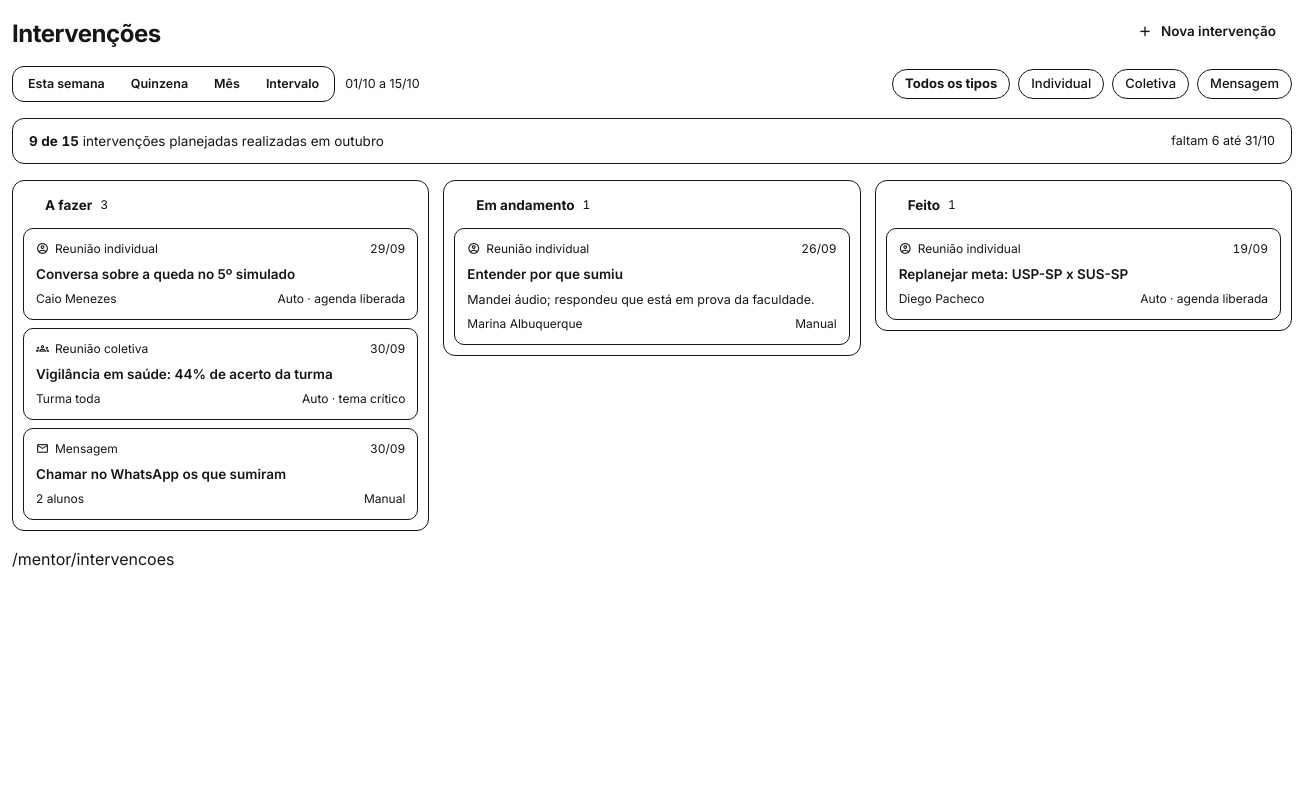
Test: Intervenções · kanban B2C › intervalo de datas valida a ordem e só consulta quando válido
The image size is (1304, 812).
Step 1. Click the tab "Intervalo" → click(293, 84), box [254,70,331,98]
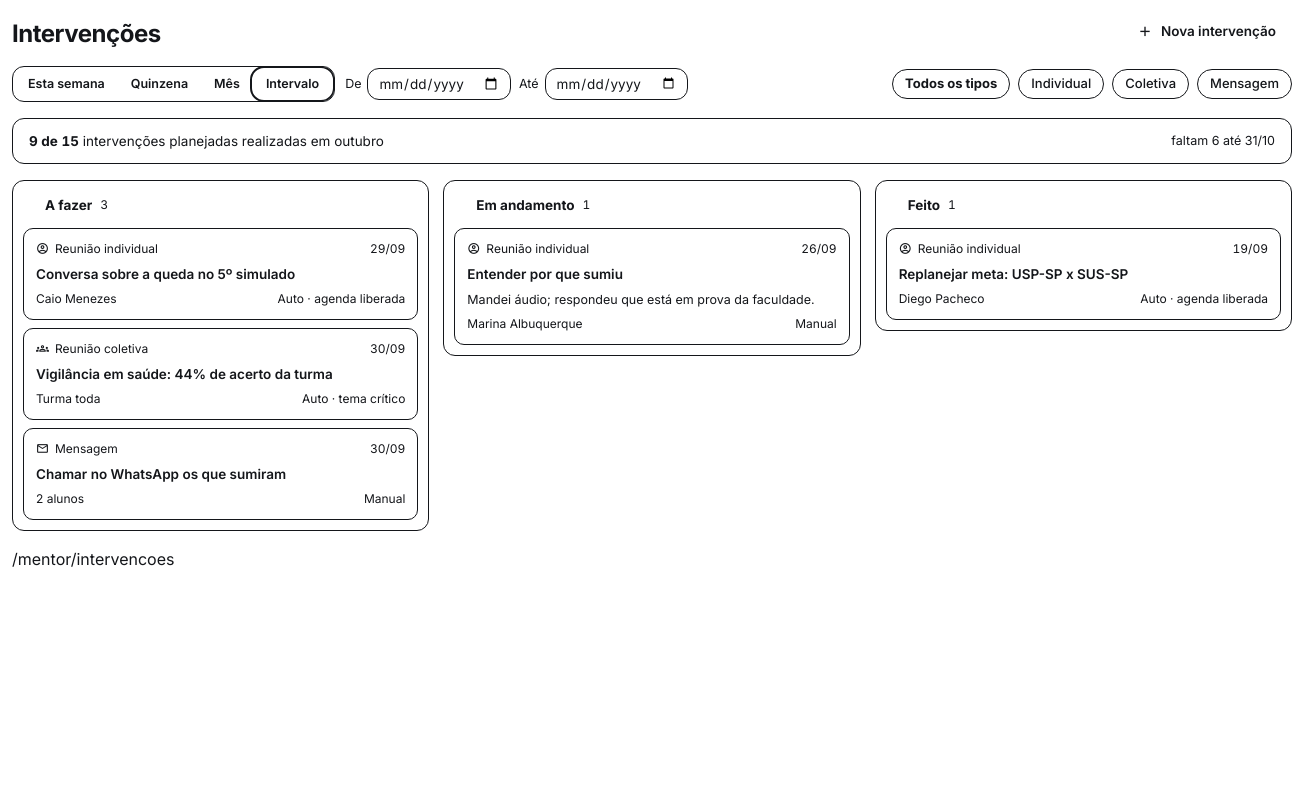
Step 2. Type "2026-10-09" into the date field labelled "De" → (439, 84), box [367,68,511,100]
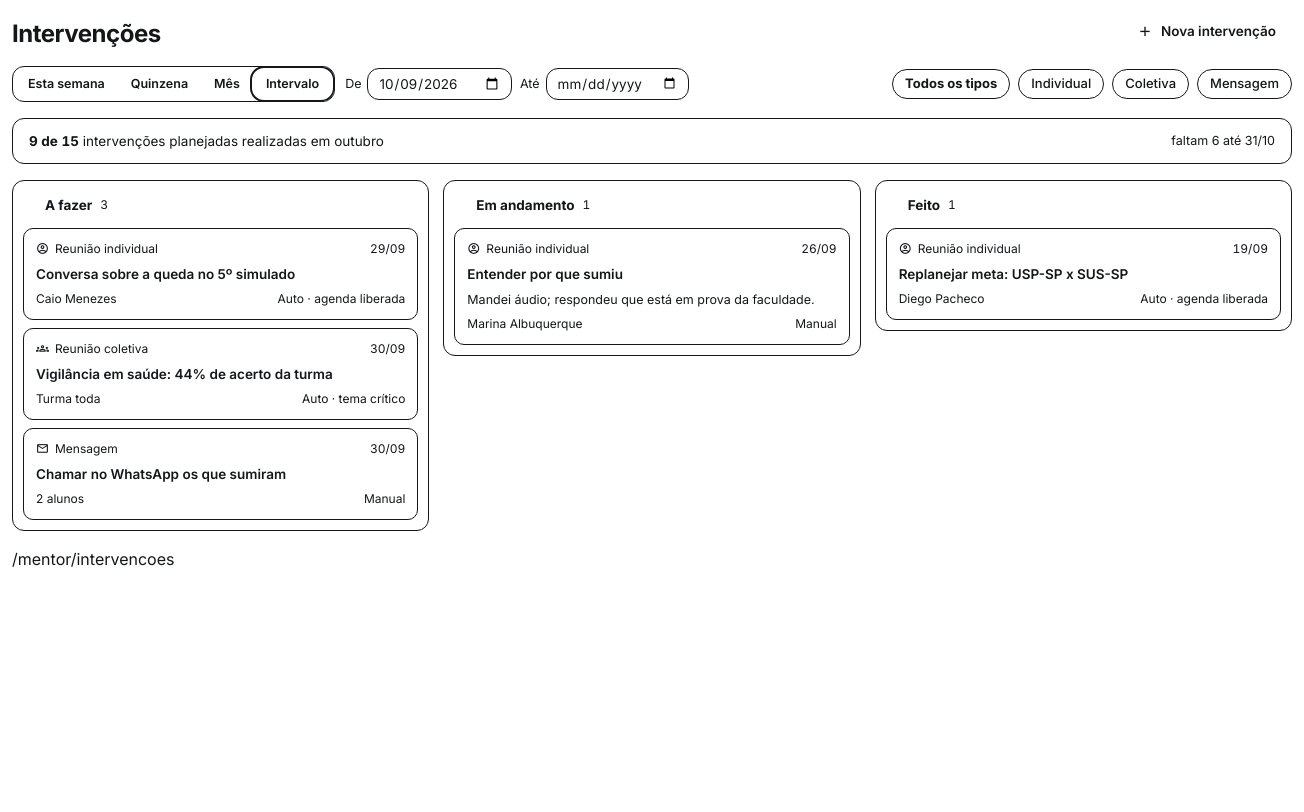
Step 3. Type "2026-10-02" into the date field labelled "Até" → (617, 84), box [546,68,689,100]
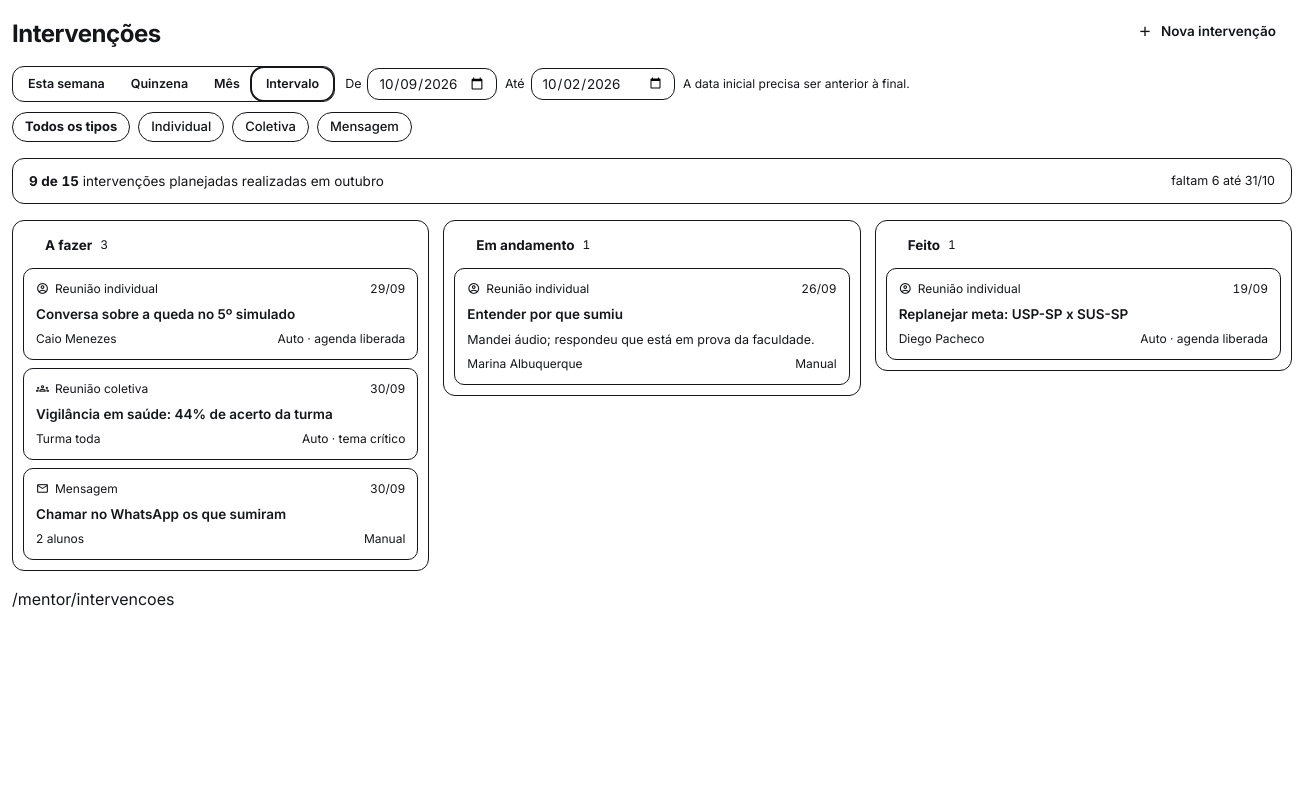
Expected: the text "A data inicial precisa ser anterior à final." is shown, [683,76,910,92]
Step 4. Type "2026-10-12" into the date field labelled "Até" → (603, 84), box [531,68,675,100]
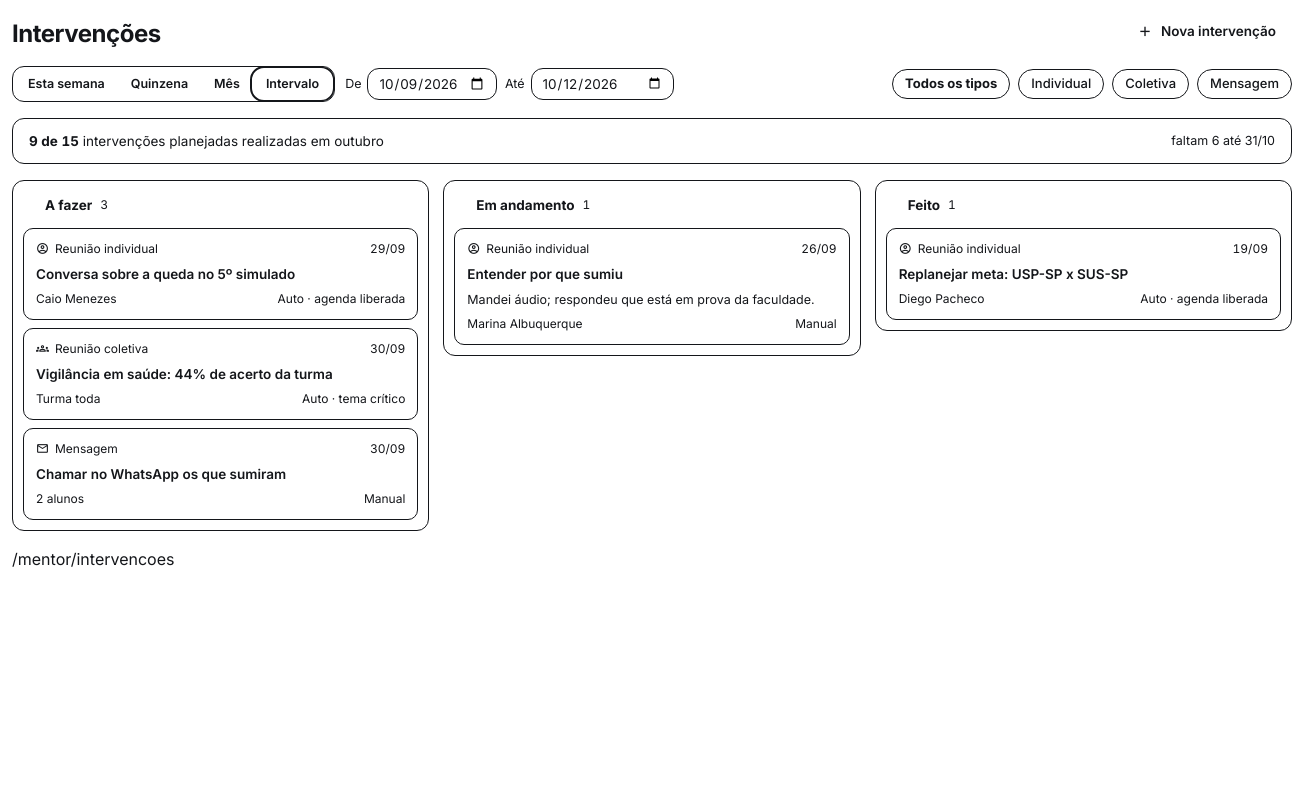
Expected: the text "A data inicial precisa ser anterior à final." is gone
